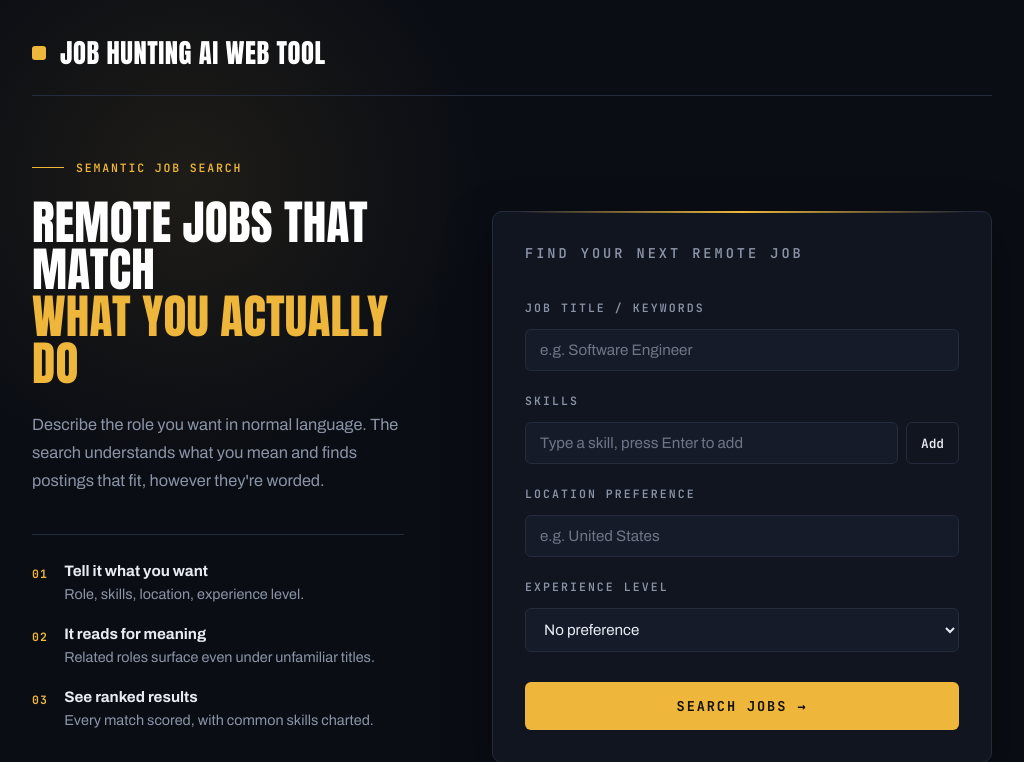
it: minimum score filter hides results below the chosen threshold
The width and height of the screenshot is (1024, 762).
Click the button "Search Jobs": point(742, 706) [525, 682, 959, 730]
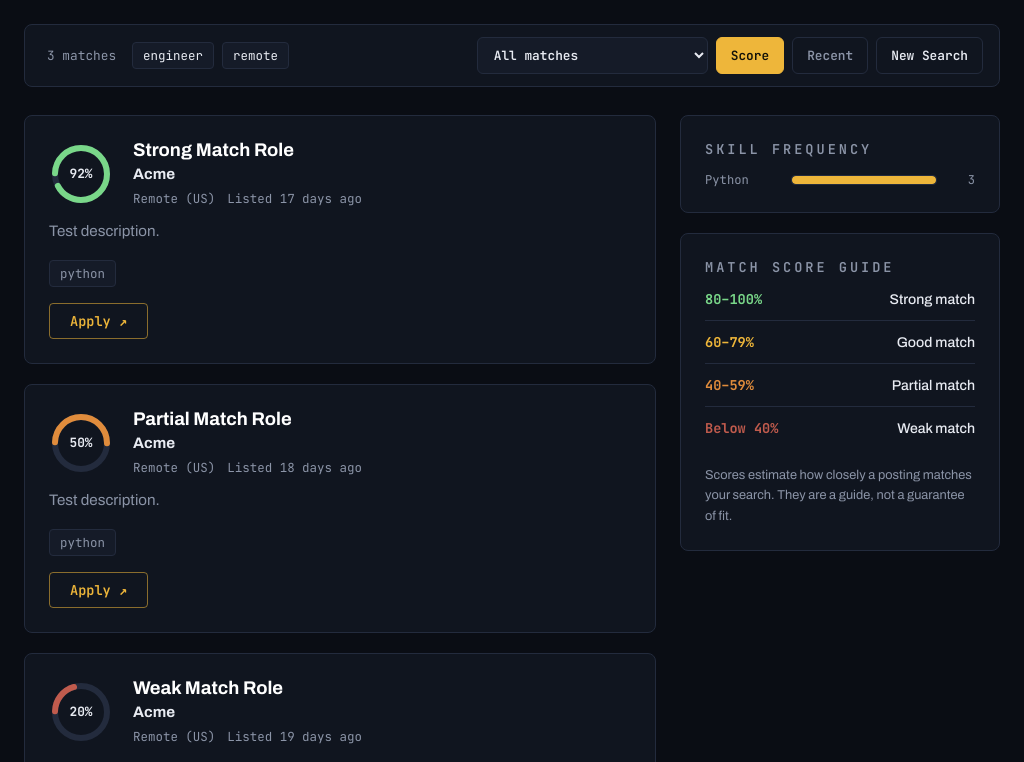
Result: the heading "Strong Match Role" is shown at [133, 140, 294, 160]
Result: the heading "Partial Match Role" is shown at [133, 409, 292, 429]
Result: the heading "Weak Match Role" is shown at [133, 678, 283, 698]
Note: Filter to Good match (60%+): 0.92 stays, 0.5 and 0.2 drop out.
Select "Good or better (60%+)" in the dropdown named "Minimum match score": point(592, 56) [477, 37, 708, 74]
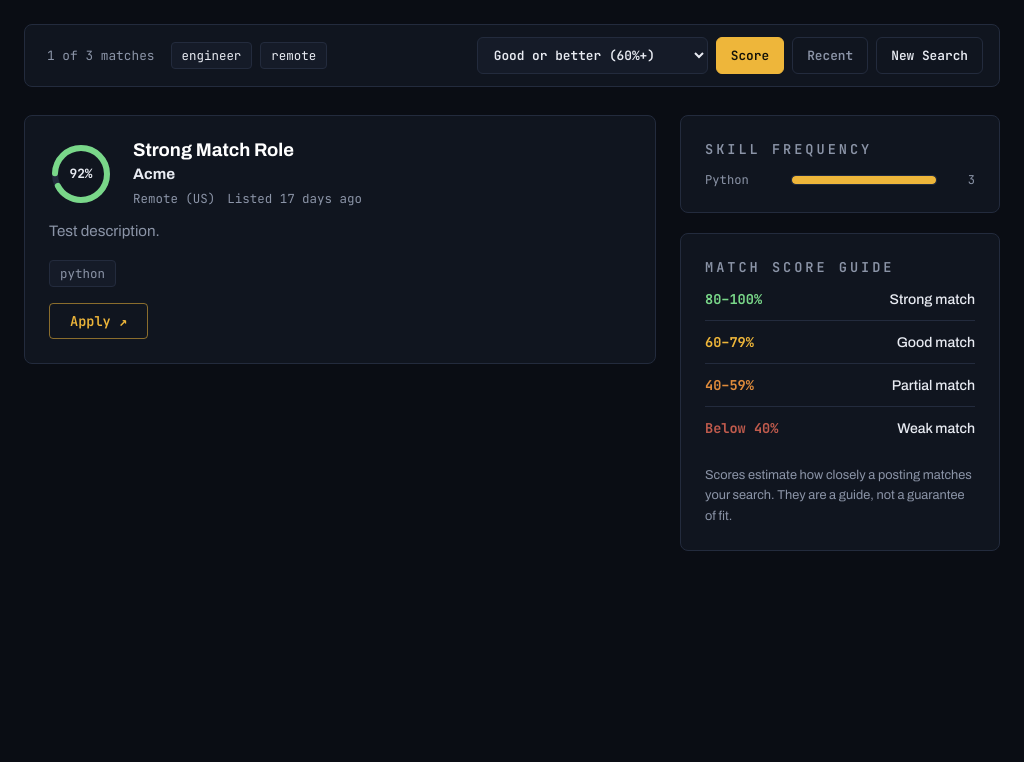
Result: the heading "Strong Match Role" is shown at [133, 140, 294, 160]
Result: the heading "Partial Match Role" is gone
Result: the heading "Weak Match Role" is gone
